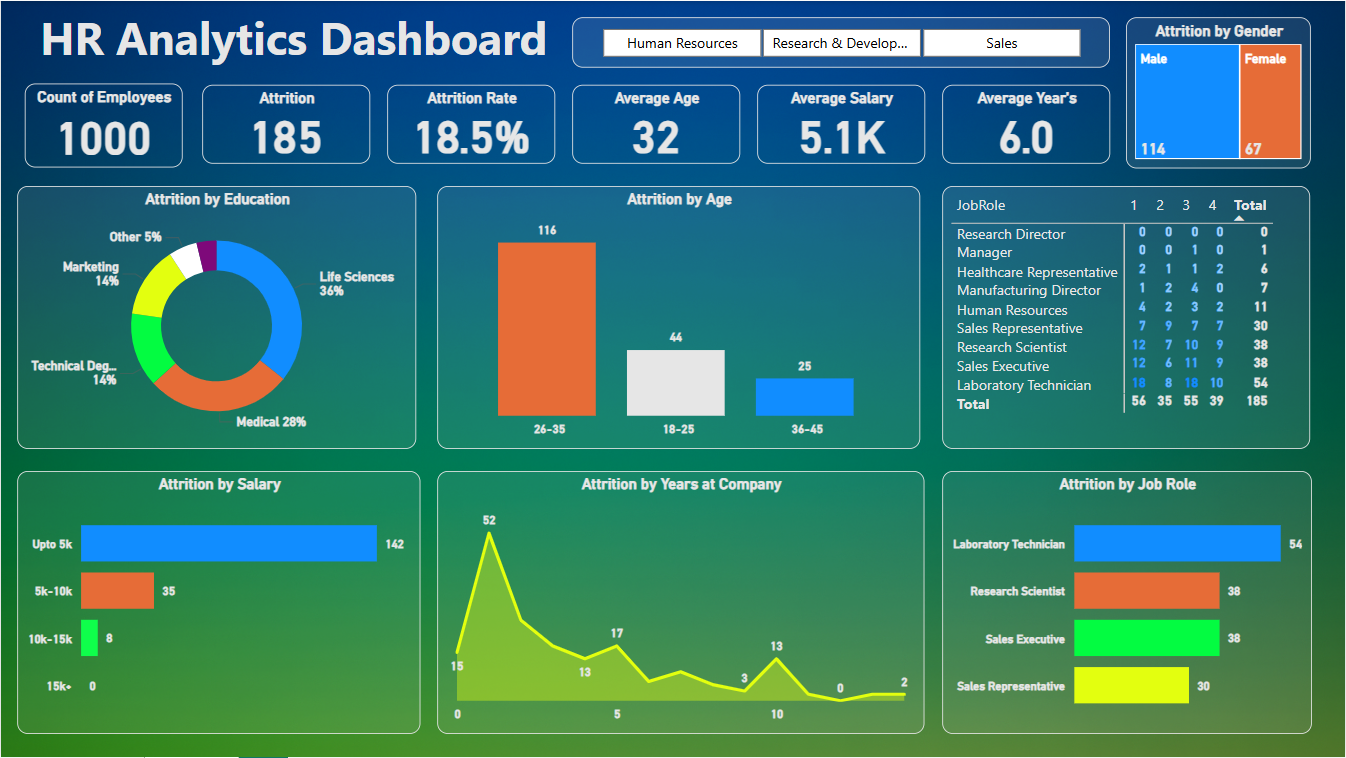

What the dashboard file says about the page in this screenshot:
{"tool":"powerbi","page":{"name":"Page 1","canvas":[1280,720],"ordinal":0},"visuals":[{"type":"card","title":"Count of Employees","fields":{"Values":["CountNonNull(HR_Analytics.EmpID)"]},"box":[22.3,78.6,150,80],"z":0},{"type":"card","title":"Attrition","fields":{"Values":["Sum(HR_Analytics.AttritionCount)"]},"box":[192,80,160,75],"z":1000},{"type":"card","title":"Average Age","fields":{"Values":["Avg(HR_Analytics.Age)"]},"box":[544,80,160,75],"z":2000},{"type":"card","title":"Average Salary","fields":{"Values":["Avg(HR_Analytics.MonthlyIncome)"]},"box":[720,80,160,75],"z":3000},{"type":"card","title":"Attrition Rate","fields":{"Values":["HR_Analytics.Attrition Rate"]},"box":[368,80,160,75],"z":4000},{"type":"card","title":"Average Year''s","fields":{"Values":["Avg(HR_Analytics.YearsAtCompany)"]},"box":[896,80,160,75],"z":5000},{"type":"donutChart","title":"Attrition by Education","fields":{"Category":["HR_Analytics.EducationField"],"Y":["Sum(HR_Analytics.AttritionCount)"]},"box":[16,176,380,250],"z":6000},{"type":"columnChart","title":"Attrition by Age","fields":{"Category":["HR_Analytics.AgeGroup"],"Y":["Sum(HR_Analytics.AttritionCount)"]},"box":[416,176,460,250],"z":7000},{"type":"pivotTable","fields":{"Rows":["HR_Analytics.JobRole"],"Columns":["HR_Analytics.JobSatisfaction"],"Values":["Sum(HR_Analytics.AttritionCount)"]},"box":[896,176,350,250],"z":8000},{"type":"barChart","title":"Attrition by Salary","fields":{"Category":["HR_Analytics.SalarySlab"],"Y":["Sum(HR_Analytics.AttritionCount)"]},"box":[16,448,384,250],"z":9000},{"type":"barChart","title":"Attrition by Job Role","fields":{"Y":["Sum(HR_Analytics.AttritionCount)"],"Category":["HR_Analytics.JobRole"]},"box":[896,448,352,250],"z":10000},{"type":"areaChart","title":"Attrition by Years at Company","fields":{"Category":["HR_Analytics.YearsAtCompany"],"Y":["Sum(HR_Analytics.AttritionCount)"]},"box":[416,448,464,250],"z":11000},{"type":"treemap","title":"Attrition by Gender","fields":{"Group":["HR_Analytics.Gender"],"Values":["Sum(HR_Analytics.AttritionCount)"]},"box":[1072,16,176,144],"z":12000},{"type":"textbox","box":[32,0,510,68],"z":13000},{"type":"slicer","fields":{"Values":["HR_Analytics.Department"]},"box":[544,16,512,48],"z":14000}]}

Visuals, with their boxes in screenshot pixels (x1, y1, x2, y2), scaled from the page's 1280x720 canvas onto the 1346x758 screenshot:
"Count of Employees" card: [x1=23, y1=83, x2=181, y2=167]
"Attrition" card: [x1=202, y1=84, x2=370, y2=163]
"Average Age" card: [x1=572, y1=84, x2=740, y2=163]
"Average Salary" card: [x1=757, y1=84, x2=925, y2=163]
"Attrition Rate" card: [x1=387, y1=84, x2=555, y2=163]
"Average Year''s" card: [x1=942, y1=84, x2=1110, y2=163]
"Attrition by Education" donutChart: [x1=17, y1=185, x2=416, y2=448]
"Attrition by Age" columnChart: [x1=437, y1=185, x2=921, y2=448]
pivotTable - HR_Analytics.JobRole x HR_Analytics.JobSatisfaction: [x1=942, y1=185, x2=1310, y2=448]
"Attrition by Salary" barChart: [x1=17, y1=472, x2=421, y2=735]
"Attrition by Job Role" barChart: [x1=942, y1=472, x2=1312, y2=735]
"Attrition by Years at Company" areaChart: [x1=437, y1=472, x2=925, y2=735]
"Attrition by Gender" treemap: [x1=1127, y1=17, x2=1312, y2=168]
textbox: [x1=34, y1=0, x2=570, y2=72]
slicer - HR_Analytics.Department: [x1=572, y1=17, x2=1110, y2=67]
